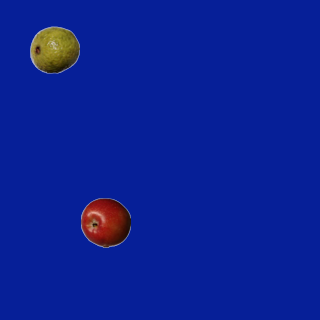Apple Braeburn: (80, 197, 130, 247)
Guava: (29, 24, 79, 74)
